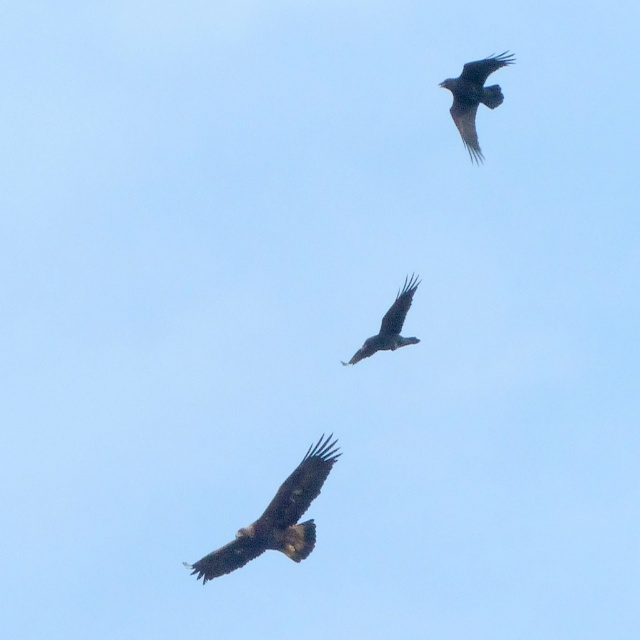Eagle: (181, 431, 340, 584), (440, 46, 517, 165), (342, 263, 422, 365)
